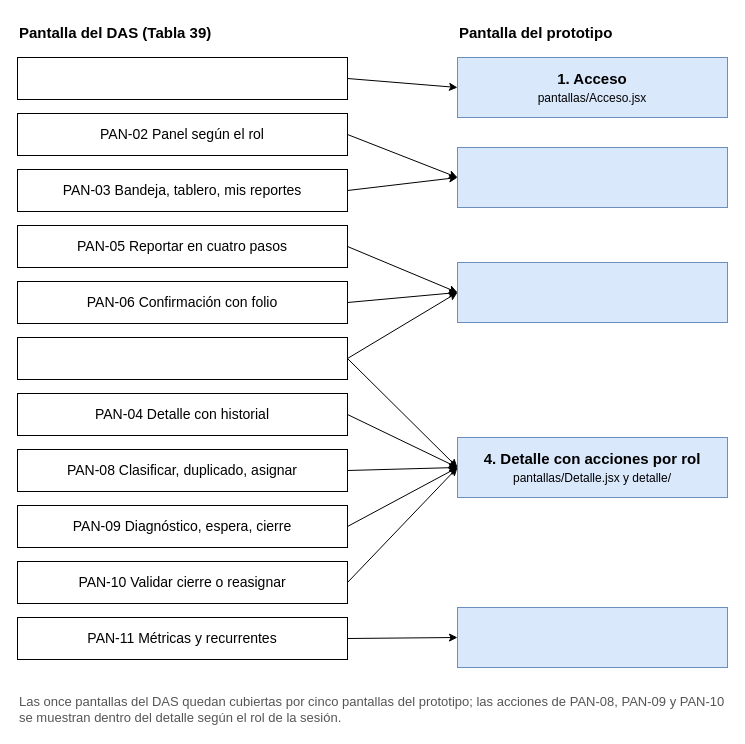
Some shapes in this 745 by 744 pixel diagram are drawn without their labels. Each missing label, with the centre of its shape:
"2. Listado por rol pantallas/Listado.jsx" goes at pixel 592 177.
"3. Reportar incidencia pantallas/Reportar.jsx" goes at pixel 592 292.
"5. Indicadores pantallas/Indicadores.jsx" goes at pixel 592 637.
"PAN-01 Inicio de sesión" goes at pixel 182 78.
"PAN-07 Errores de captura y cierre" goes at pixel 182 358.
